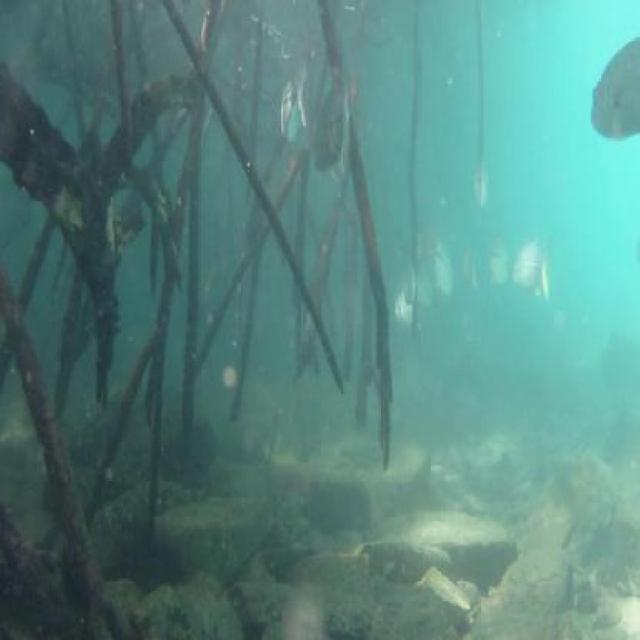Caranx_sexfasciatus_juvenile: (584, 39, 640, 143), (311, 81, 347, 179), (277, 55, 311, 154), (382, 264, 421, 342), (513, 230, 552, 304), (422, 229, 460, 302), (484, 232, 511, 293), (458, 242, 479, 300), (470, 165, 493, 212)
